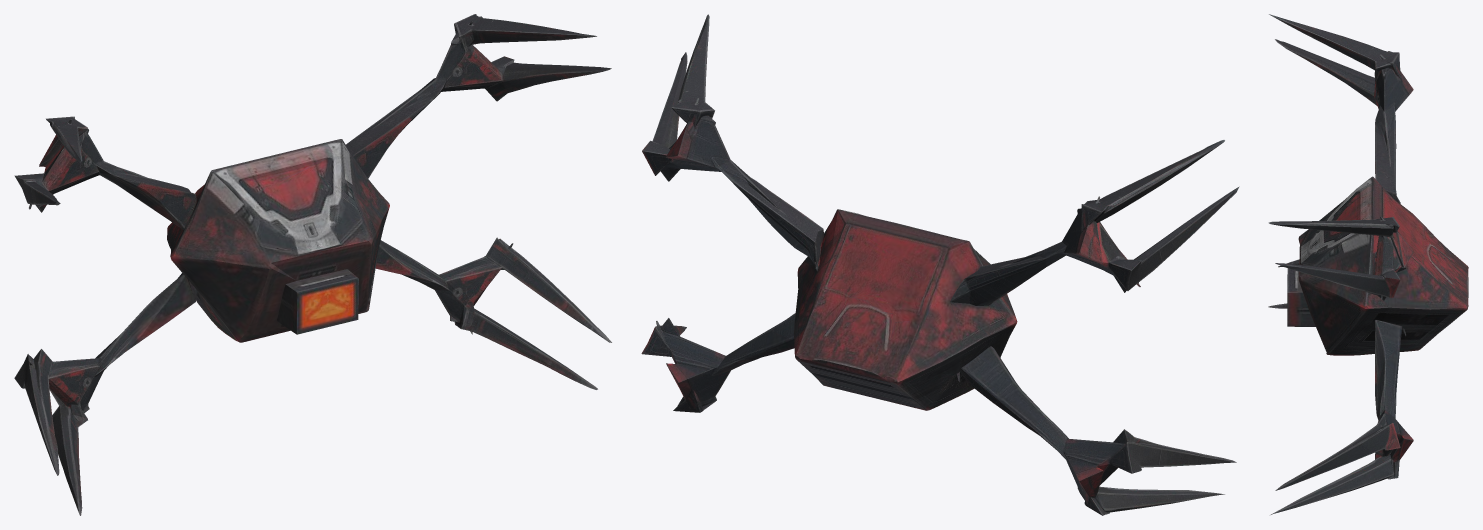
File: Enemy1-v2.glb
The picture shows the model from 3 angles, left to right: view 1: azimuth 30°, elevation 25°; view 2: azimuth 150°, elevation 25°; view 3: azimuth 270°, elevation 25°; orthographic projection. The views are drawn at different scales.
Visible parts, largest first — view 1: output_unwrapped; view 2: output_unwrapped; view 3: output_unwrapped.
Part boxes in pixels (x1=…): output_unwrapped: x1=14, y1=14, x2=611, y2=515; output_unwrapped: x1=641, y1=14, x2=1239, y2=515; output_unwrapped: x1=1268, y1=14, x2=1468, y2=514.
Size of the model in its own units: 2 by 1.22 by 0.7549.
Materials: 1 (1 with a texture image).
